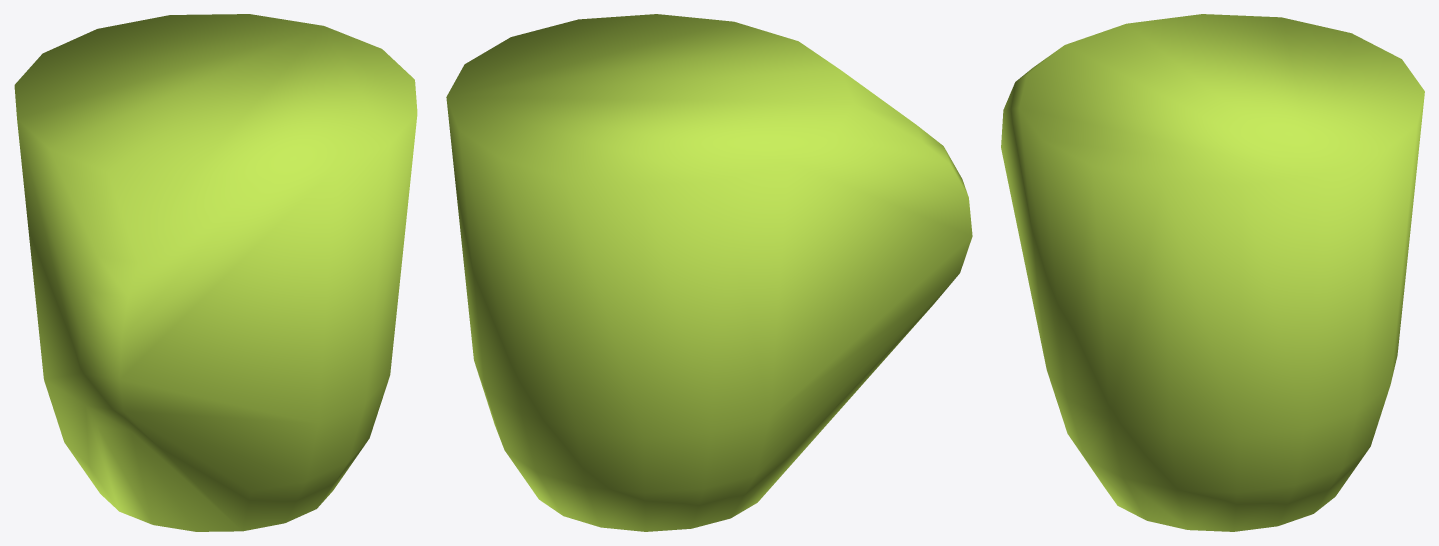
Rendered from cup_convex.fbx.
3 views of the same model, side by side, from view 1: azimuth 30°, elevation 25°; view 2: azimuth 150°, elevation 25°; view 3: azimuth 270°, elevation 25° (orthographic).
Parts seen in each view (by area): view 1: cup_convex; view 2: cup_convex; view 3: cup_convex.
Part boxes in pixels (x1,y1,x2,y2): cup_convex: [14, 14, 417, 531]; cup_convex: [446, 14, 972, 531]; cup_convex: [1001, 14, 1424, 531].
Size of the model in its own units: 2.22 by 2.01 by 2.04.
